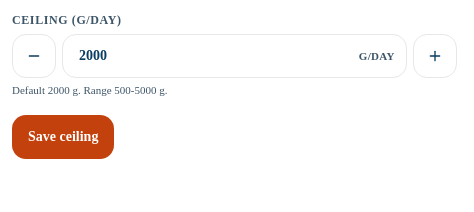
Test: DeviceDailyCapForm › shows a failed save with role=alert and does not mark it saved
Click the button "Save ceiling" at x=63, y=136, box [12,114,114,158]
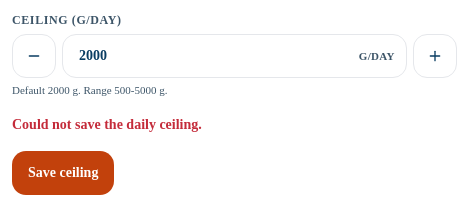
Expected: the message reads "Could not save the daily ceiling.", [12,116,202,132]
